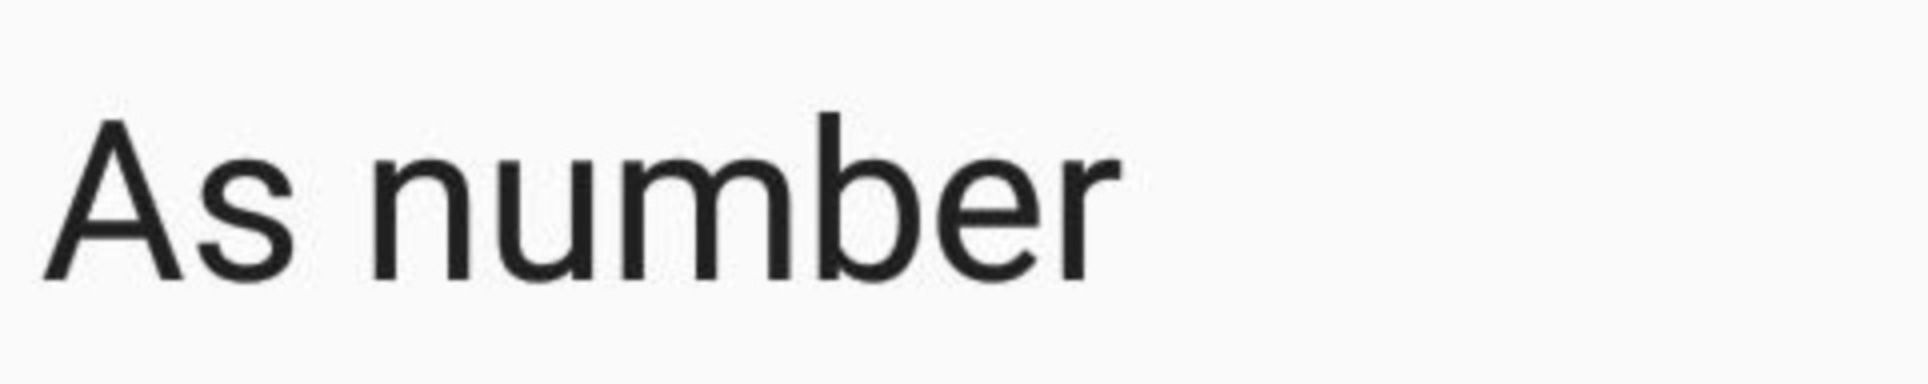TextView: (1, 1, 1927, 383)
